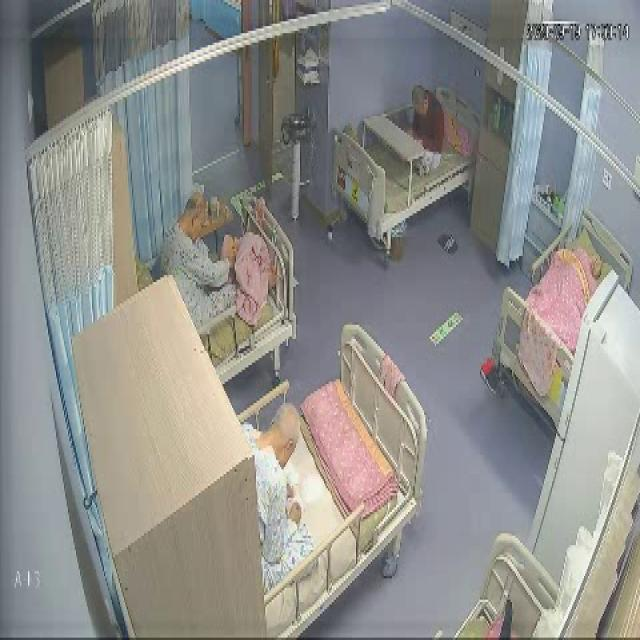bed: (232, 327, 428, 640), (493, 210, 632, 425), (162, 200, 294, 384), (336, 82, 478, 240)
patient: (246, 401, 314, 592), (162, 192, 236, 340), (404, 84, 444, 178)
sit: (161, 190, 281, 332), (245, 399, 315, 593), (404, 86, 444, 176)
